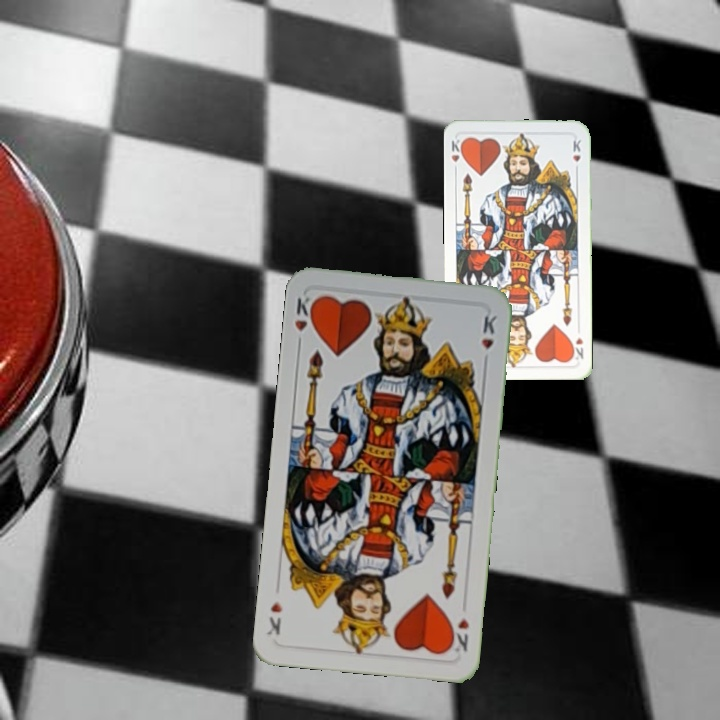HK: (290, 292, 319, 350), (445, 614, 472, 655), (447, 135, 466, 175), (568, 333, 586, 363)
